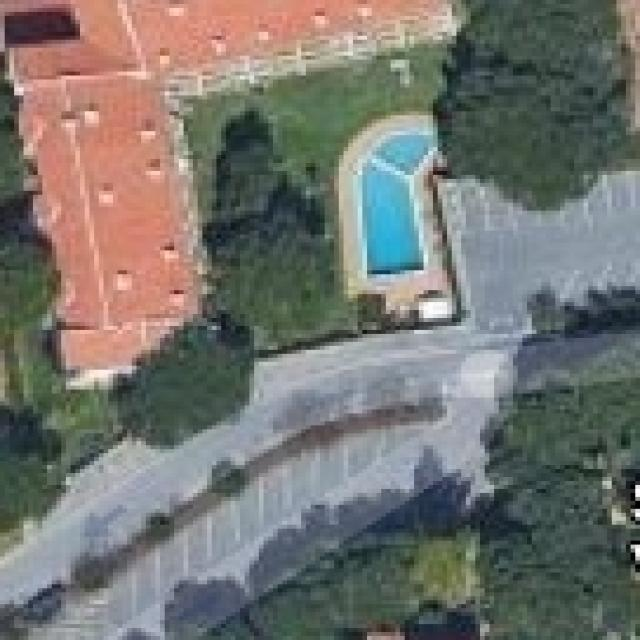pool: (342, 114, 445, 284)
